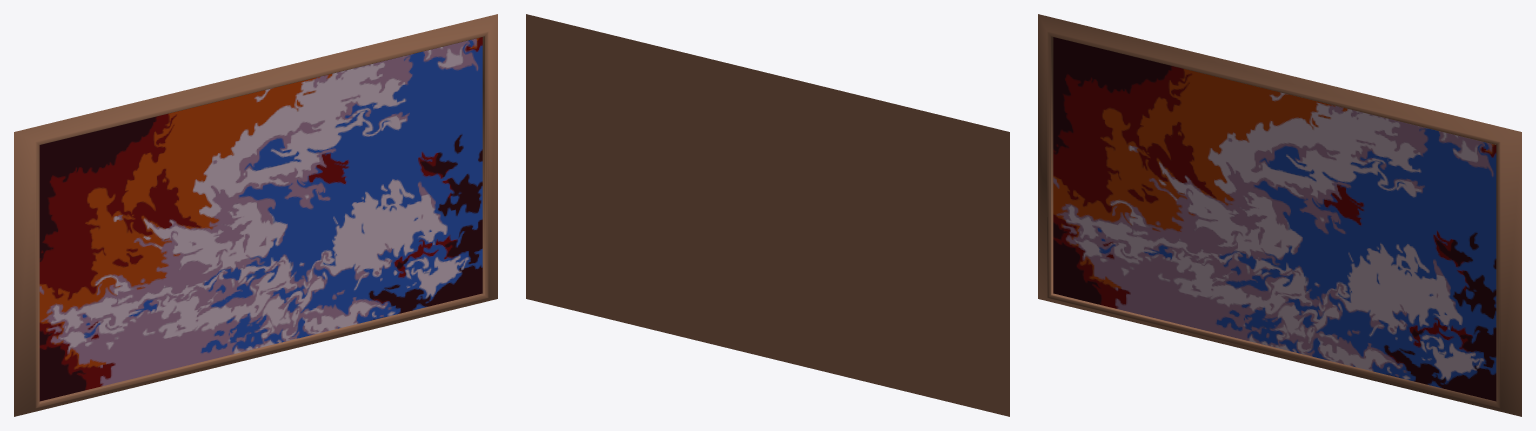
File: Chart-2.fbx
3 views of the same model, side by side, from view 1: azimuth 30°, elevation 25°; view 2: azimuth 150°, elevation 25°; view 3: azimuth 330°, elevation 25° (orthographic).
Parts seen in each view (by area): view 1: Chart-2; view 2: Chart-2; view 3: Chart-2.
Part boxes in pixels (<box>): Chart-2: <box>14,14,497,416</box>; Chart-2: <box>526,14,1009,416</box>; Chart-2: <box>1038,14,1521,416</box>.
Size of the model in its own units: 3.43 by 1.93 by 0.0779.
